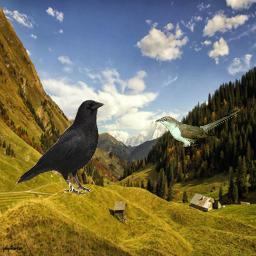Crow: (16, 98, 105, 195)
Cuckoo: (155, 108, 240, 147)
